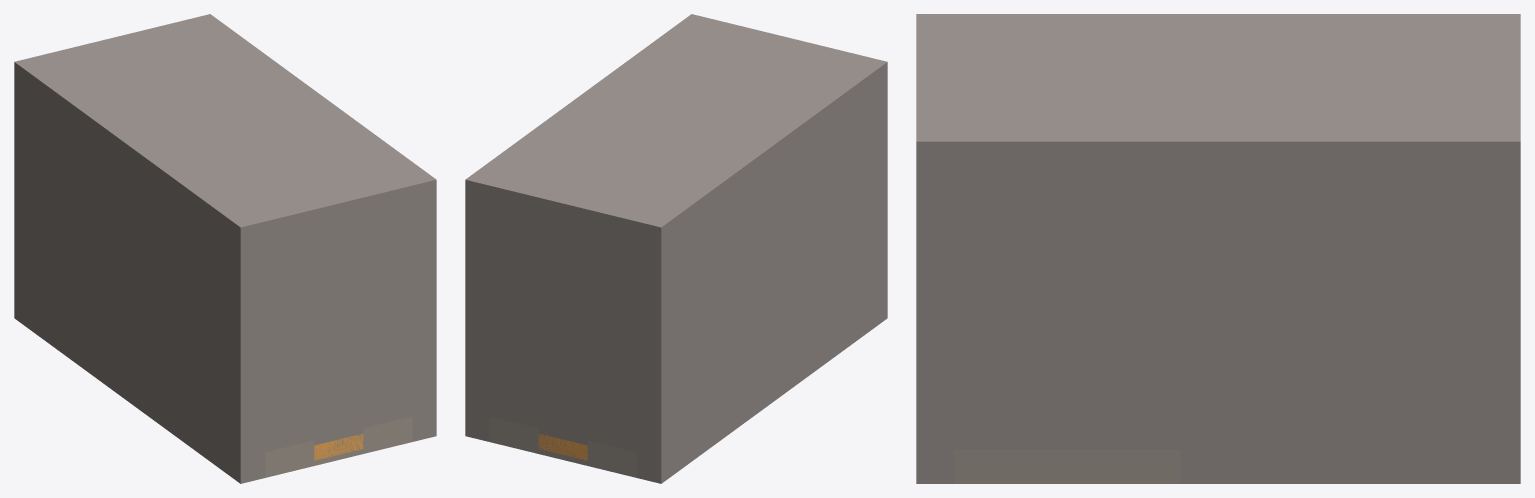
The model's file is stream-mirror.glb.
3 renders of one model, left to right at view 1: azimuth 30°, elevation 25°; view 2: azimuth 150°, elevation 25°; view 3: azimuth 270°, elevation 25°, orthographic. The views are drawn at different scales.
Parts seen in each view (by area): view 1: rock_1, rock_7, plug_stream_south, rock_3, rock_5, cave-floor_1, cave-floor_2, lava_1, plug_stream_south.001; view 2: rock_1, rock_7, plug_stream_north, rock_2, rock_4, cave-floor_1, cave-floor_2, lava_1, plug_stream_north.001; view 3: rock_2, rock_7, plug_east, rock_6, rock_3, cave-floor_3.
Part boxes in pixels (left/top/right/bottom): rock_1: left=14, top=88, right=265, bottom=483; rock_7: left=14, top=14, right=436, bottom=252; plug_stream_south: left=265, top=237, right=412, bottom=452; rock_3: left=412, top=205, right=436, bottom=441; rock_5: left=265, top=211, right=412, bottom=272; cave-floor_1: left=265, top=440, right=314, bottom=477; cave-floor_2: left=363, top=416, right=412, bottom=453; lava_1: left=314, top=434, right=363, bottom=460; plug_stream_south.001: left=314, top=428, right=363, bottom=460; rock_1: left=636, top=88, right=887, bottom=483; rock_7: left=465, top=14, right=887, bottom=252; plug_stream_north: left=489, top=237, right=636, bottom=452; rock_2: left=465, top=205, right=489, bottom=441; rock_4: left=489, top=211, right=636, bottom=272; cave-floor_1: left=587, top=440, right=636, bottom=477; cave-floor_2: left=489, top=416, right=538, bottom=453; lava_1: left=538, top=434, right=587, bottom=460; plug_stream_north.001: left=538, top=428, right=587, bottom=459; rock_2: left=1180, top=176, right=1520, bottom=483; rock_7: left=916, top=14, right=1520, bottom=175; plug_east: left=954, top=244, right=1180, bottom=449; rock_6: left=954, top=176, right=1180, bottom=244; rock_3: left=916, top=176, right=953, bottom=483; cave-floor_3: left=954, top=449, right=1180, bottom=483.
Size of the model in its own units: 4 by 5 by 8.
